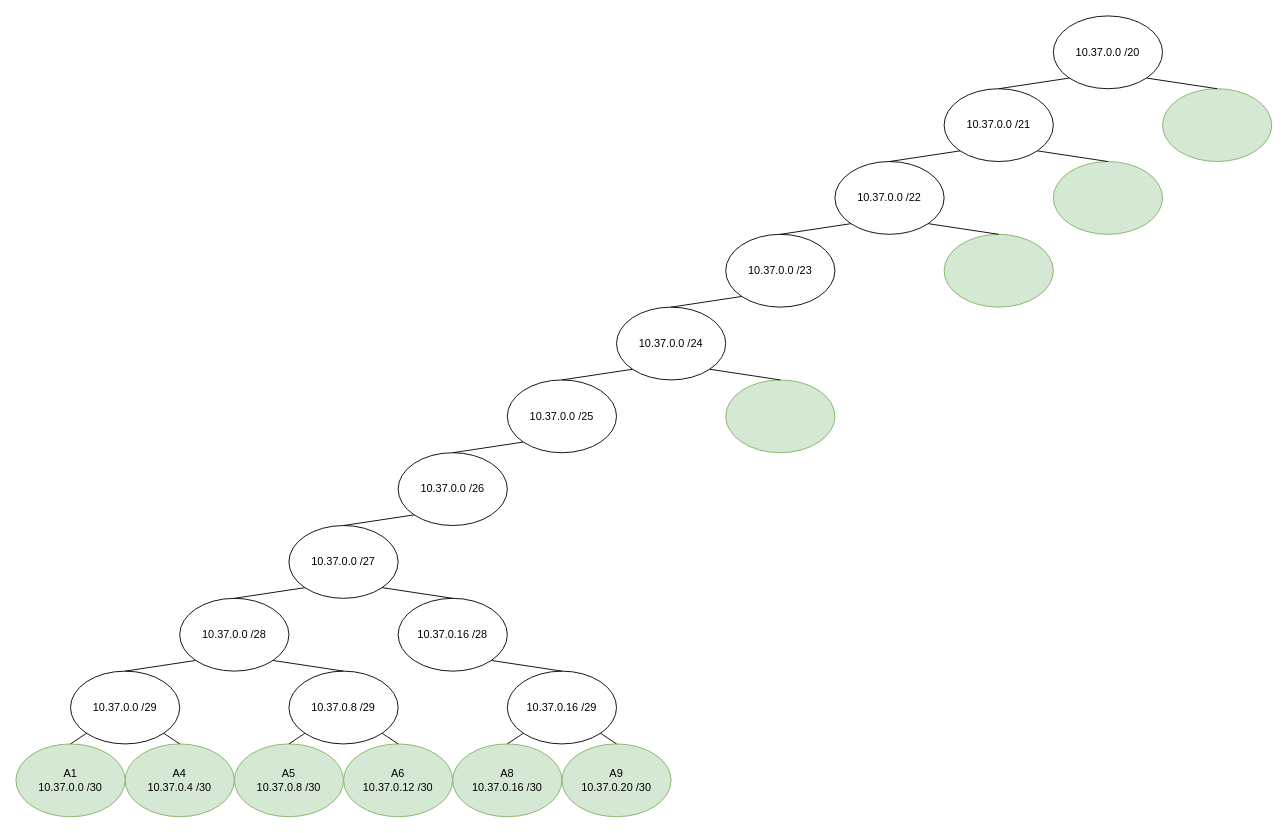
This 1288x833 diagram has some shape labels left out. The shapes that lost their labels are listed below. From the top down, each one's centre as x and y in pixels, then its label:
At point (1217, 125): "A2 10.37.8.0 /21".
At point (1107, 197): "A3 10.37.4.0 /22".
At point (998, 270): "A10 10.37.2.0 /23".
At point (780, 416): "A7 10.37.0.128 /25".
